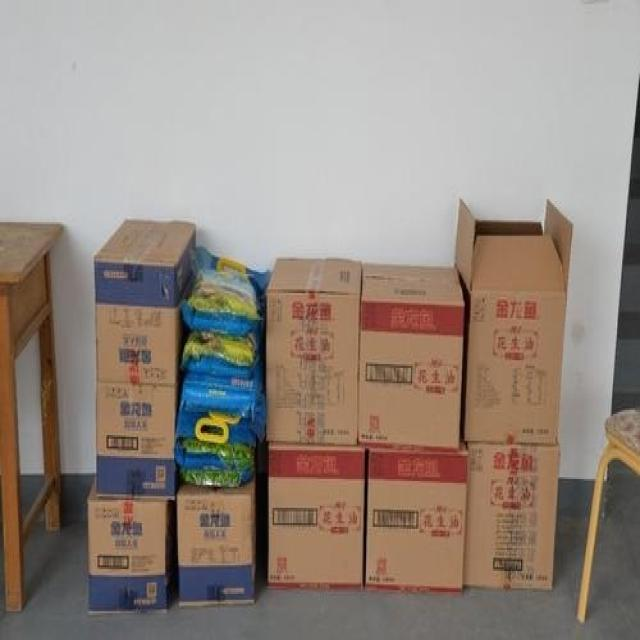Carton: (365, 443, 557, 588), (358, 261, 462, 445), (93, 218, 193, 379), (463, 291, 566, 439), (265, 295, 357, 443), (268, 443, 361, 583), (88, 496, 164, 609), (96, 383, 172, 496), (177, 494, 250, 600), (266, 257, 358, 295)
